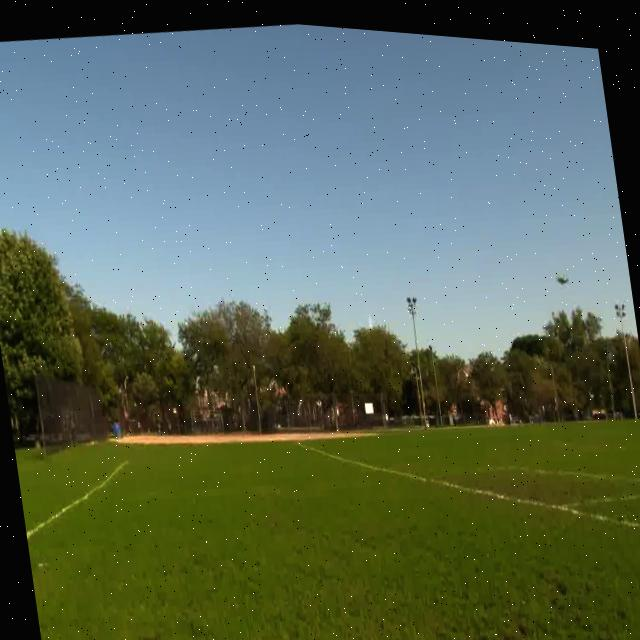drone: (551, 252, 572, 288)
